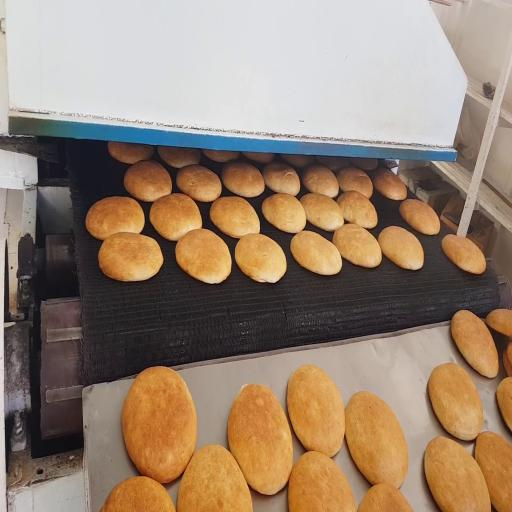bread: (122, 367, 197, 483), (228, 384, 293, 494), (346, 392, 408, 487), (287, 365, 345, 457), (177, 445, 252, 511), (424, 437, 490, 511), (428, 363, 483, 440), (288, 452, 355, 511), (99, 232, 163, 281), (451, 311, 498, 377), (176, 229, 231, 283), (475, 432, 511, 511), (101, 477, 175, 511), (235, 234, 286, 283), (86, 197, 144, 240), (150, 194, 202, 240), (291, 231, 342, 275), (333, 224, 381, 267), (210, 197, 259, 238), (378, 226, 423, 270), (124, 160, 172, 201), (262, 193, 306, 233), (442, 235, 486, 274), (176, 165, 221, 202), (300, 193, 343, 231), (337, 191, 377, 228), (222, 162, 264, 197), (358, 484, 412, 511), (400, 200, 440, 235), (263, 162, 300, 196), (303, 164, 338, 198), (336, 167, 373, 198), (373, 169, 407, 200), (108, 142, 153, 164), (158, 147, 200, 168), (496, 377, 511, 431), (486, 309, 511, 338), (316, 156, 349, 171), (203, 150, 239, 163), (281, 155, 314, 167), (243, 152, 274, 164), (350, 158, 377, 170), (503, 341, 511, 376)
